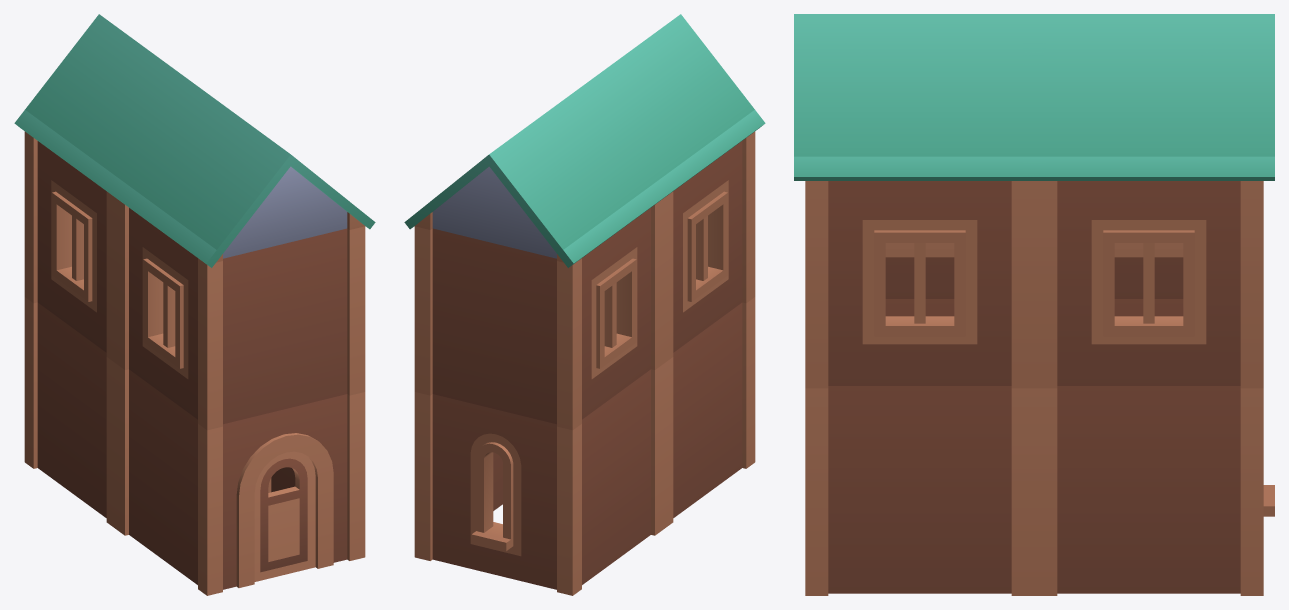
File: house-wood-tall.glb
The picture shows the model from 3 angles, left to right: view 1: azimuth 30°, elevation 25°; view 2: azimuth 150°, elevation 25°; view 3: azimuth 270°, elevation 25°; orthographic projection. The views are drawn at different scales.
Visible parts, largest first — view 1: roof-gable, wall-wood.004, wall-wood-door, wall-wood-window-shutters.001, wall-wood.001, roof-gable.001, wall-wood.003, wall-wood-window-shutters.003, door, wall-wood, wall-wood-window-shutters, wall-wood-window-round; view 2: wall-wood-window-round, roof-gable.001, wall-wood.005, wall-wood-window-shutters.003, roof-gable, wall-wood.003, wall-wood-window-shutters.001, wall-wood.001, wall-wood-window-shutters.002, wall-wood-door, wall-wood.004, wall-wood.002; view 3: wall-wood, wall-wood.002, wall-wood-window-shutters, wall-wood-window-shutters.002, roof-gable, roof-gable.001, wall-wood-window-round, wall-wood-window-shutters.001, wall-wood-window-shutters.003, wall-wood-door, wall-wood.004, wall-wood.005 (+2 smaller).
Boxes of the visible parts, bbox=[...] form: roof-gable: bbox=[106, 81, 375, 267]; wall-wood.004: bbox=[198, 227, 365, 429]; wall-wood-door: bbox=[198, 392, 365, 595]; wall-wood-window-shutters.001: bbox=[116, 198, 222, 430]; wall-wood.001: bbox=[116, 364, 222, 595]; roof-gable.001: bbox=[14, 14, 189, 196]; wall-wood.003: bbox=[24, 297, 115, 528]; wall-wood-window-shutters.003: bbox=[24, 131, 115, 363]; door: bbox=[254, 451, 315, 581]; wall-wood: bbox=[268, 392, 365, 560]; wall-wood-window-shutters: bbox=[347, 226, 365, 395]; wall-wood-window-round: bbox=[24, 302, 37, 468]; wall-wood-window-round: bbox=[414, 392, 581, 595]; roof-gable.001: bbox=[404, 81, 673, 267]; wall-wood.005: bbox=[414, 226, 580, 429]; wall-wood-window-shutters.003: bbox=[557, 198, 663, 430]; roof-gable: bbox=[581, 14, 765, 196]; wall-wood.003: bbox=[557, 364, 663, 595]; wall-wood-window-shutters.001: bbox=[664, 141, 755, 363]; wall-wood.001: bbox=[664, 301, 754, 528]; wall-wood-window-shutters.002: bbox=[414, 226, 432, 395]; wall-wood-door: bbox=[742, 297, 755, 468]; wall-wood.004: bbox=[742, 131, 755, 303]; wall-wood.002: bbox=[414, 393, 502, 560]; wall-wood: bbox=[805, 386, 1034, 595]; wall-wood.002: bbox=[1034, 386, 1263, 595]; wall-wood-window-shutters: bbox=[805, 181, 1034, 388]; wall-wood-window-shutters.002: bbox=[1034, 181, 1263, 388]; roof-gable: bbox=[794, 14, 1045, 180]; roof-gable.001: bbox=[1023, 14, 1274, 180]; wall-wood-window-round: bbox=[1240, 388, 1274, 595]; wall-wood-window-shutters.001: bbox=[885, 243, 954, 298]; wall-wood-window-shutters.003: bbox=[1114, 243, 1183, 298]; wall-wood-door: bbox=[805, 388, 828, 595]; wall-wood.004: bbox=[805, 181, 828, 387]; wall-wood.005: bbox=[1240, 181, 1263, 387].
Bounding box in the file's own units: 1.07 × 2.57 × 2.1.
Materials: 14 (14 with a texture image).
